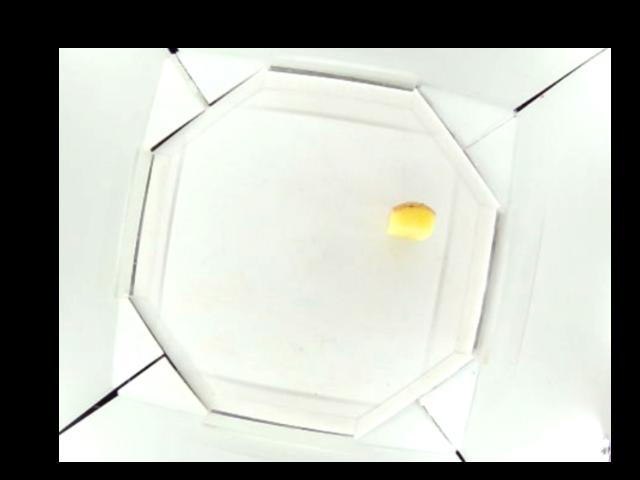Potato: (388, 200, 435, 240)
